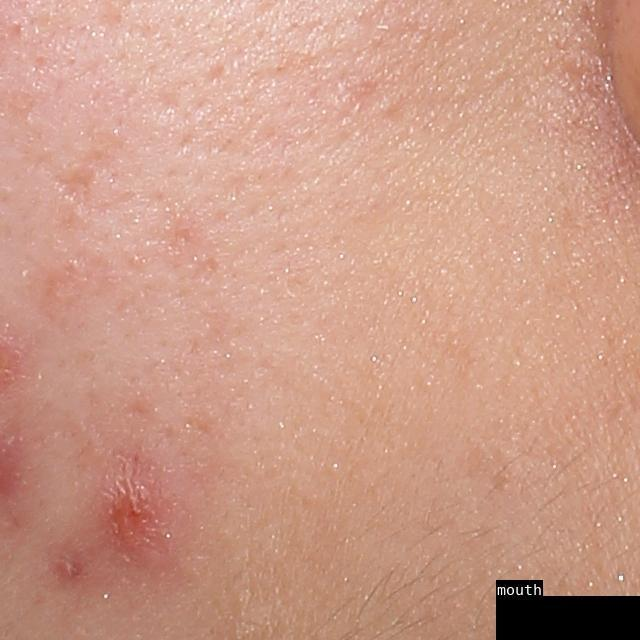atrophic_scar: (53, 164, 101, 223)
papule: (105, 476, 161, 550)
